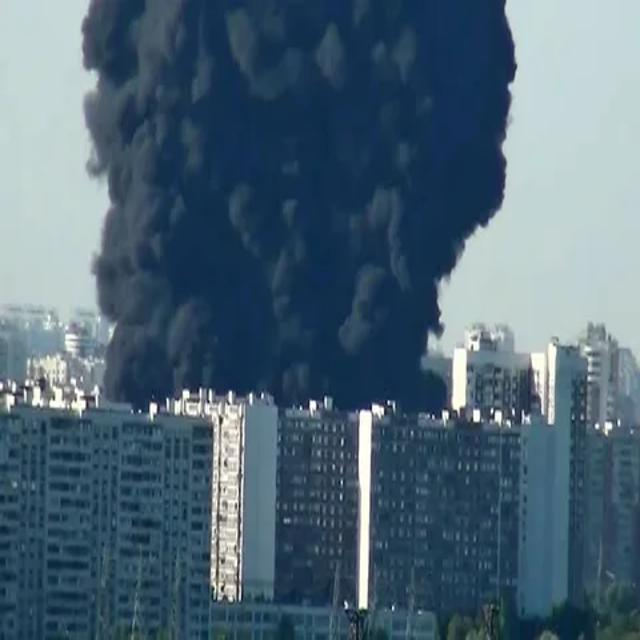Smoke: (76, 1, 520, 407)
